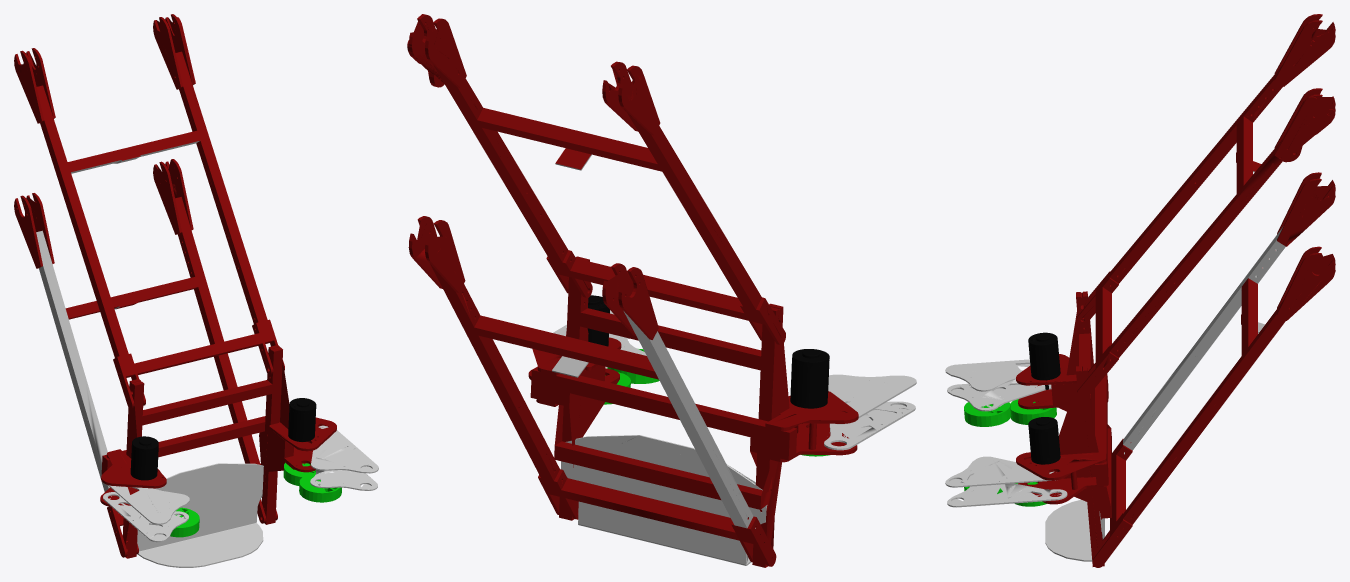
Rendered from GretaCarriage.fbx.
3 views of the same model, side by side, from view 1: azimuth 30°, elevation 25°; view 2: azimuth 150°, elevation 25°; view 3: azimuth 270°, elevation 25° (orthographic). The views are drawn at different scales.
Visible parts, largest first — view 1: carriage arm intake assem.001; view 2: carriage arm intake assem.001; view 3: carriage arm intake assem.001.
Boxes of the visible parts, x1=… form: carriage arm intake assem.001: x1=14, y1=14, x2=378, y2=567; carriage arm intake assem.001: x1=407, y1=14, x2=916, y2=567; carriage arm intake assem.001: x1=945, y1=14, x2=1335, y2=567.
Bounding box in the file's own units: 5.38 × 9.67 × 7.14.
